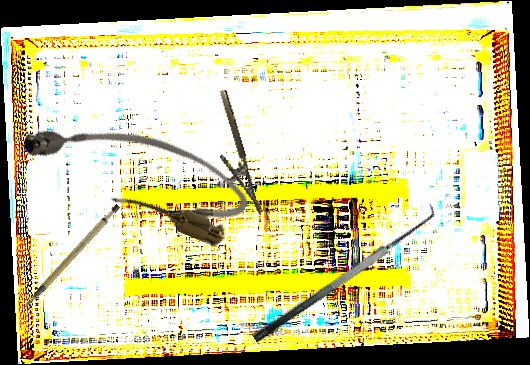Cannula: (13, 89, 258, 253)
Needle Holder: (202, 88, 264, 220)
Scalpel Handle: (8, 202, 132, 310)
Spatula Surgical: (241, 198, 444, 345)
